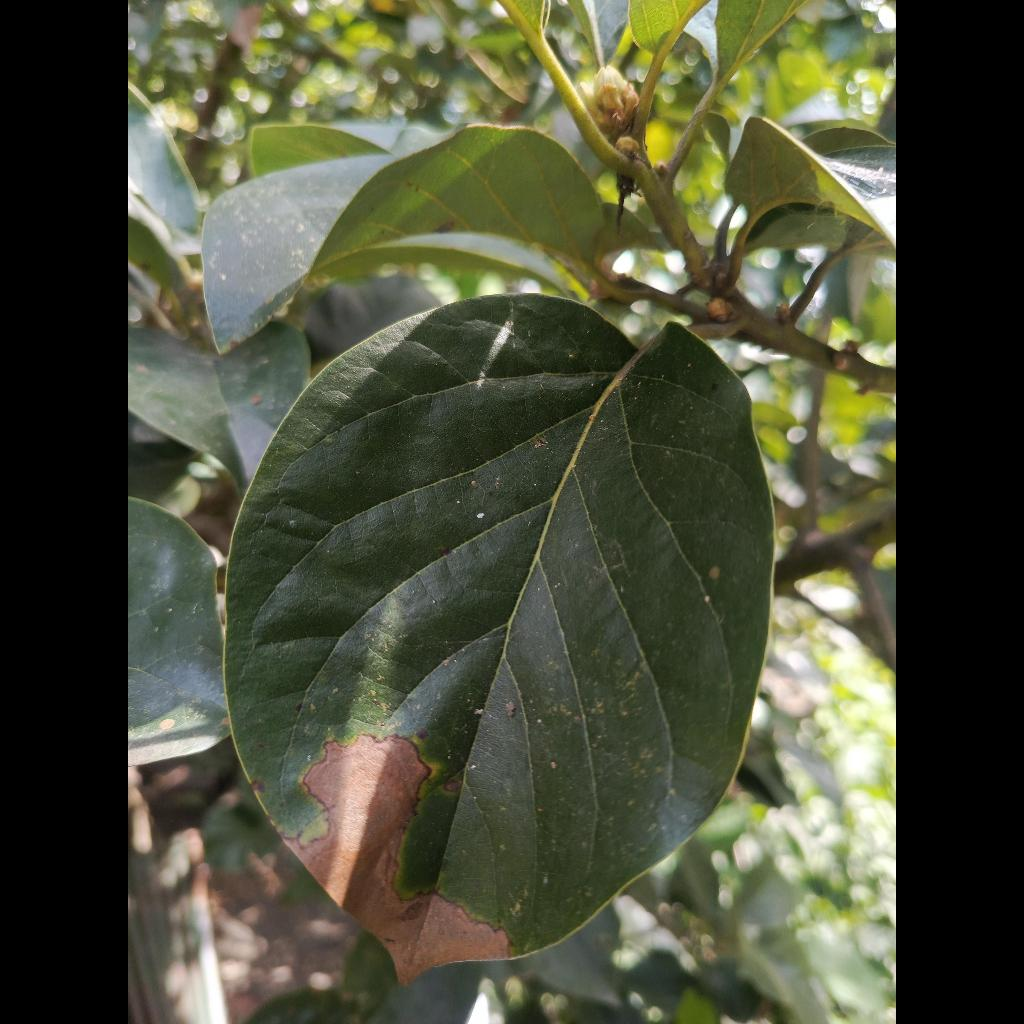Anthracnose: (225, 295, 773, 983)
